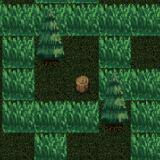Obstacle: (34, 36, 67, 69), (99, 101, 131, 133), (67, 69, 98, 101)
Slow: (0, 4, 160, 36), (2, 36, 34, 132), (131, 69, 160, 160), (99, 36, 131, 100), (34, 101, 99, 132), (34, 132, 67, 160)
